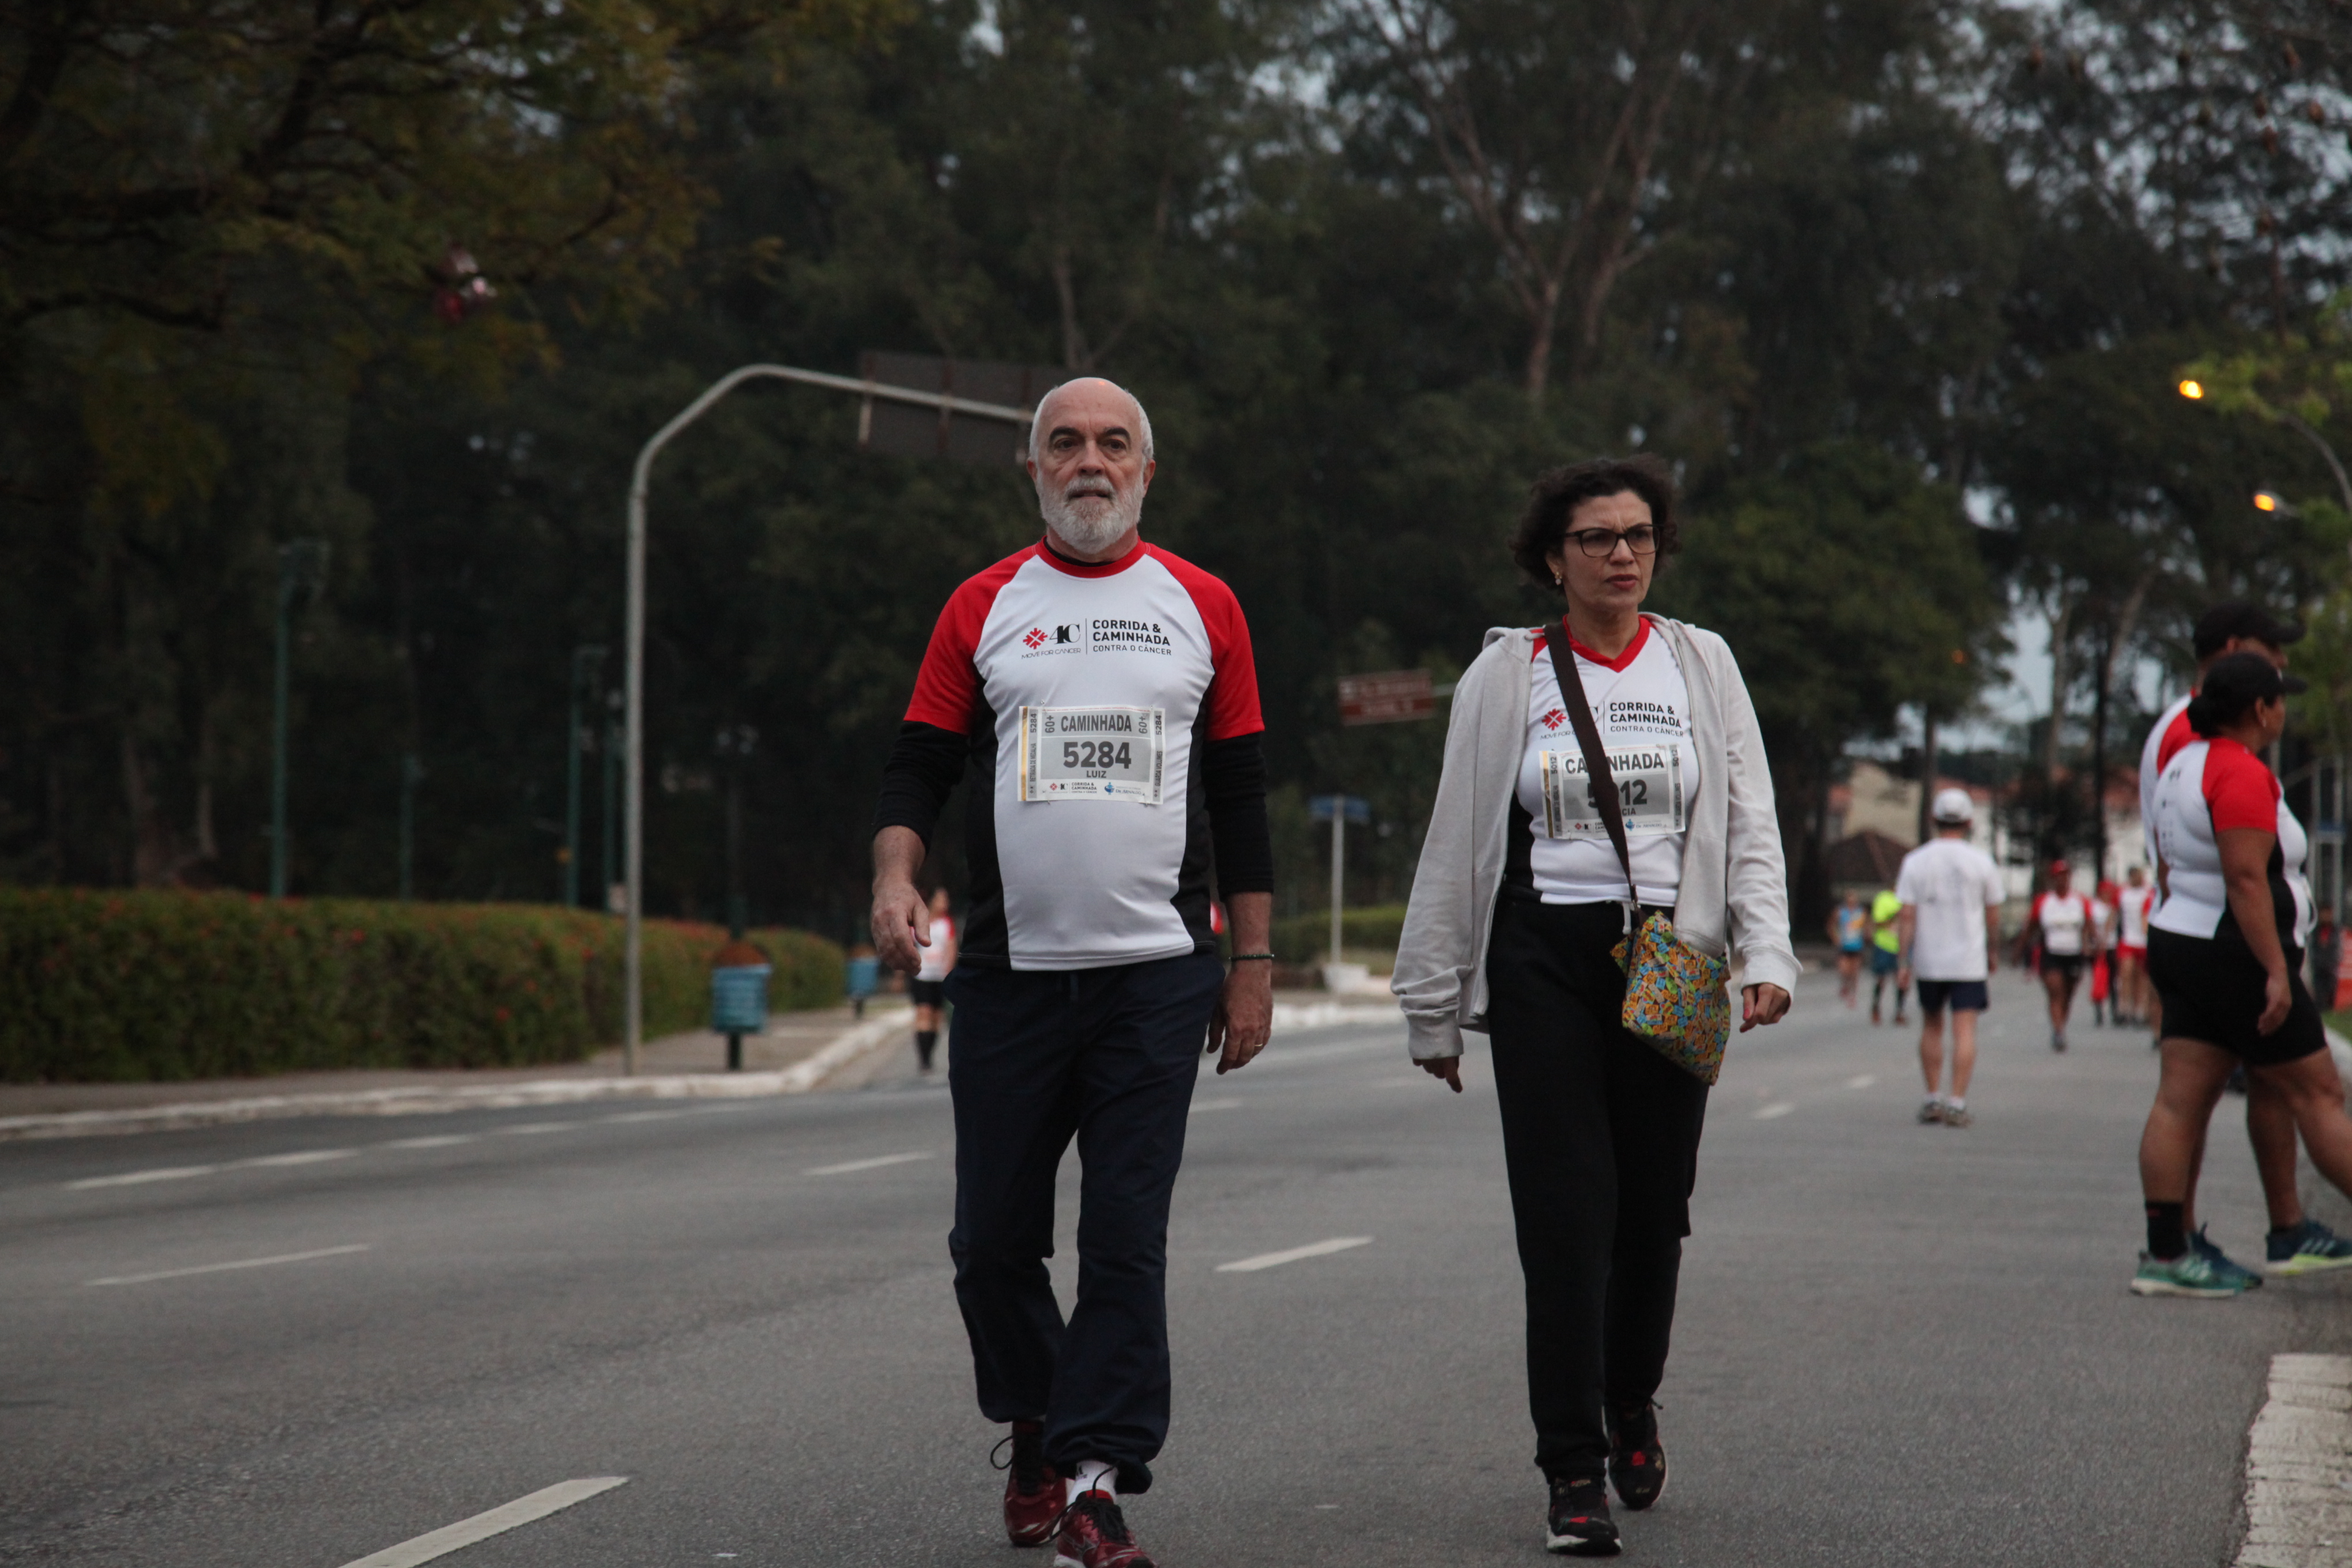bibtag: (1003, 696, 1171, 819), (1529, 742, 1694, 840)
